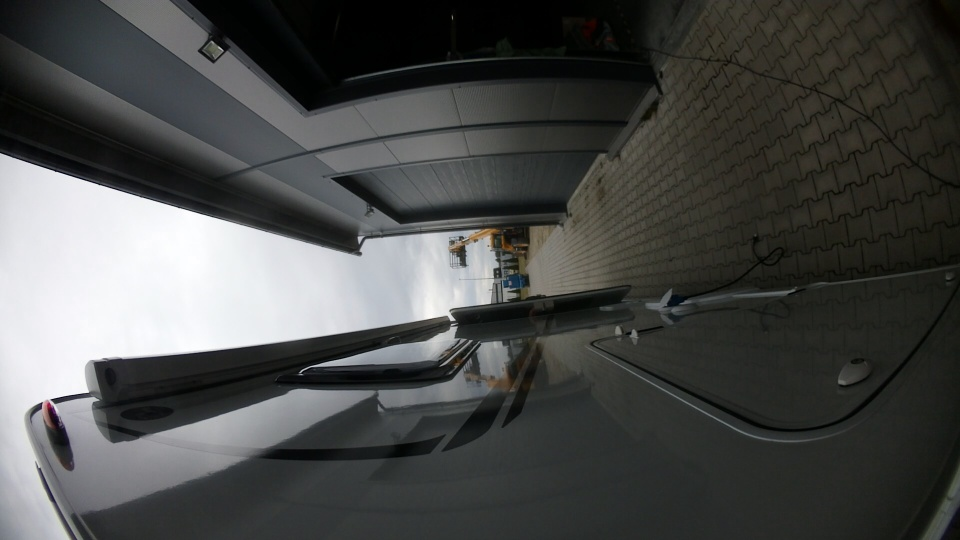door_back: (444, 279, 639, 332)
